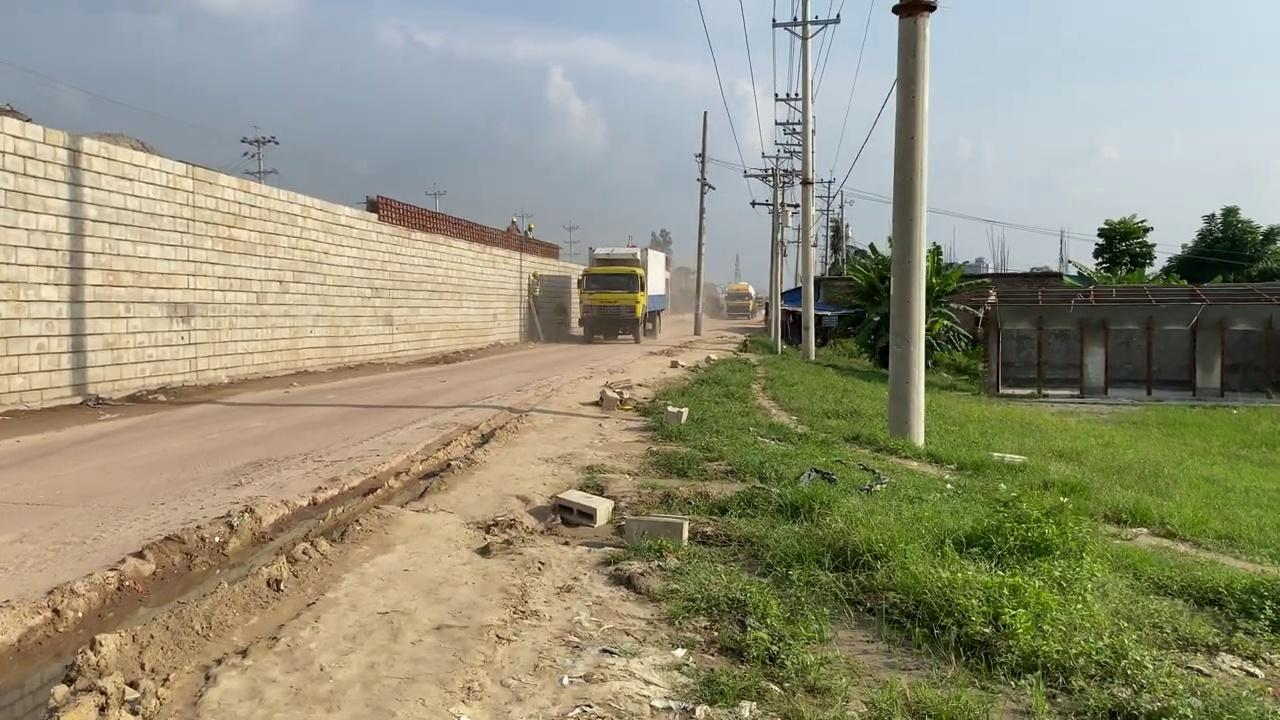Obstacle: (620, 514, 689, 550), (551, 488, 614, 527)
Pole: (886, 0, 937, 447), (798, 0, 816, 361), (693, 110, 708, 335)
Traffic-sign: (1161, 202, 1279, 283), (1090, 212, 1156, 283)
Tree: (576, 244, 669, 344), (724, 282, 756, 320)
Upstairs: (0, 111, 587, 412), (950, 280, 1279, 402)
